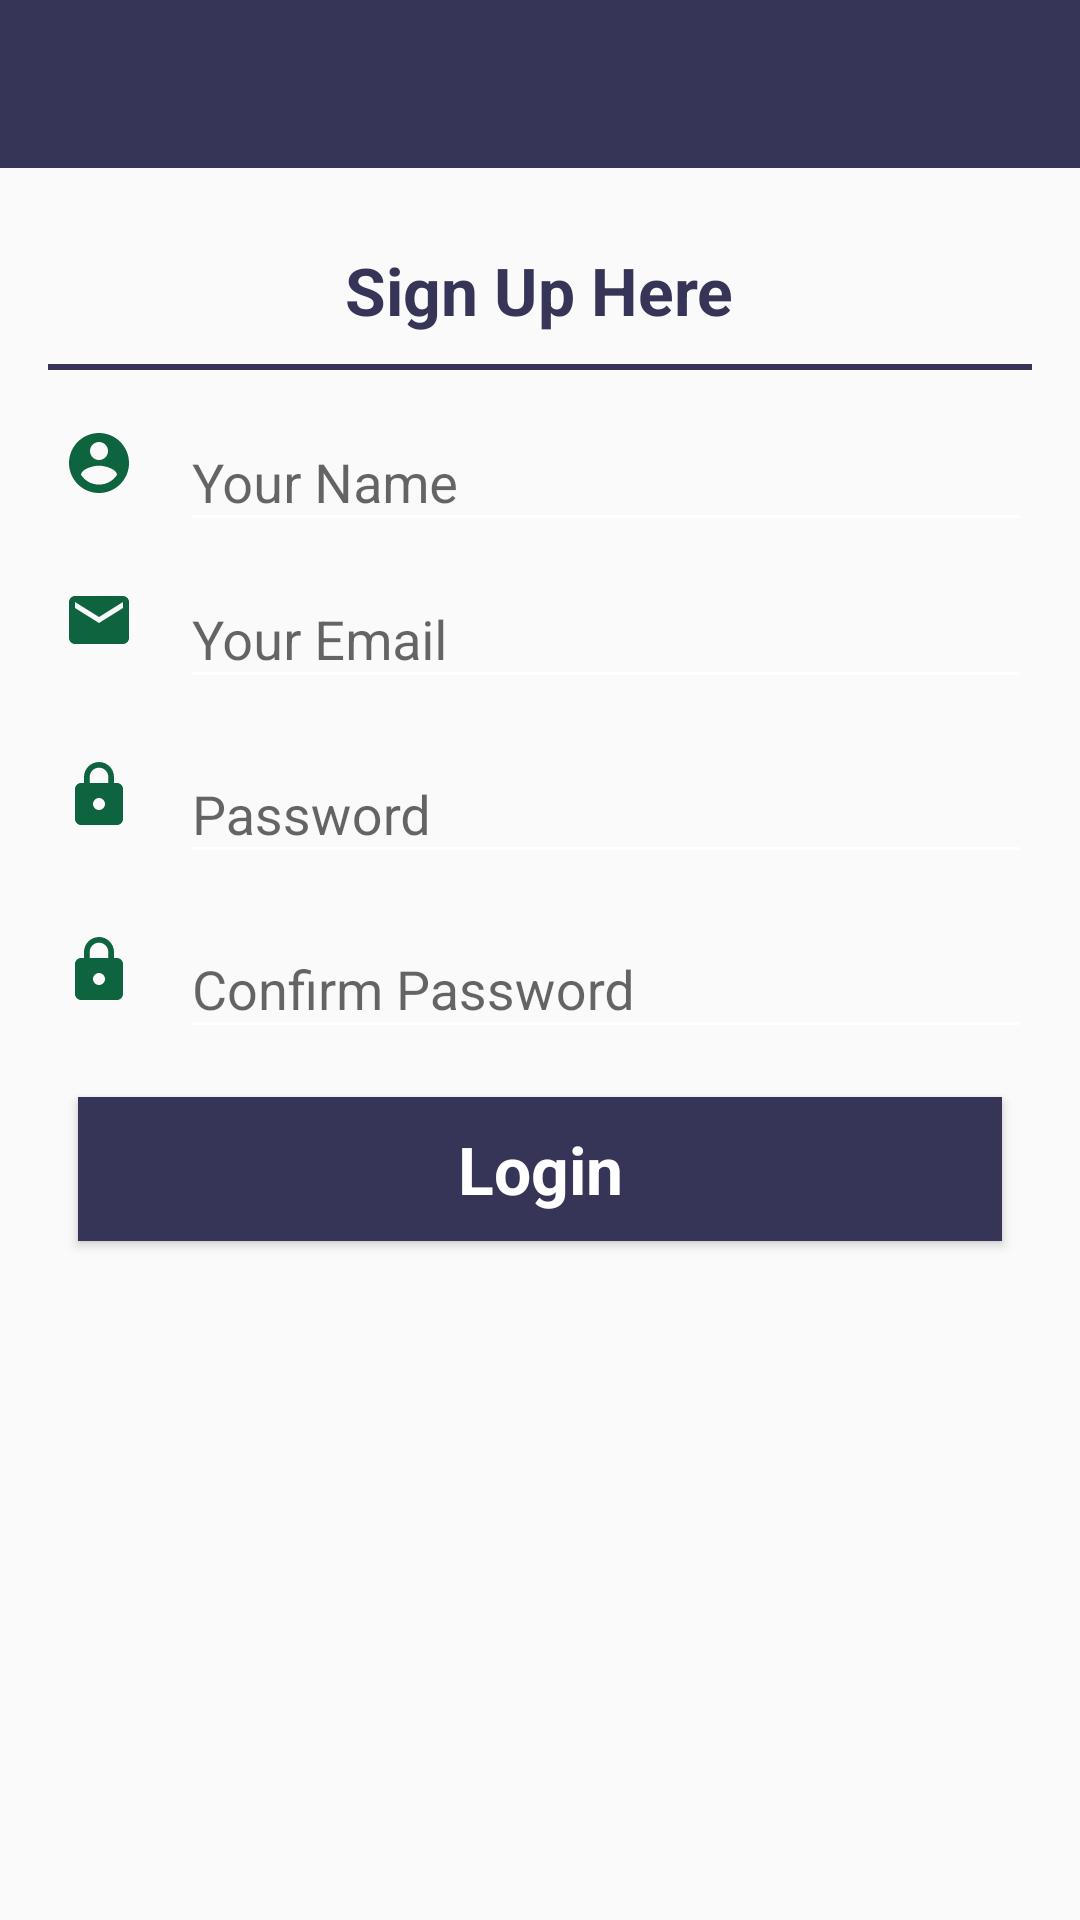

Point at icon controls on the screen. Image size 1080*1920, points as (x,y).
lock: (99,793), (99,968)
user: (99,463)
